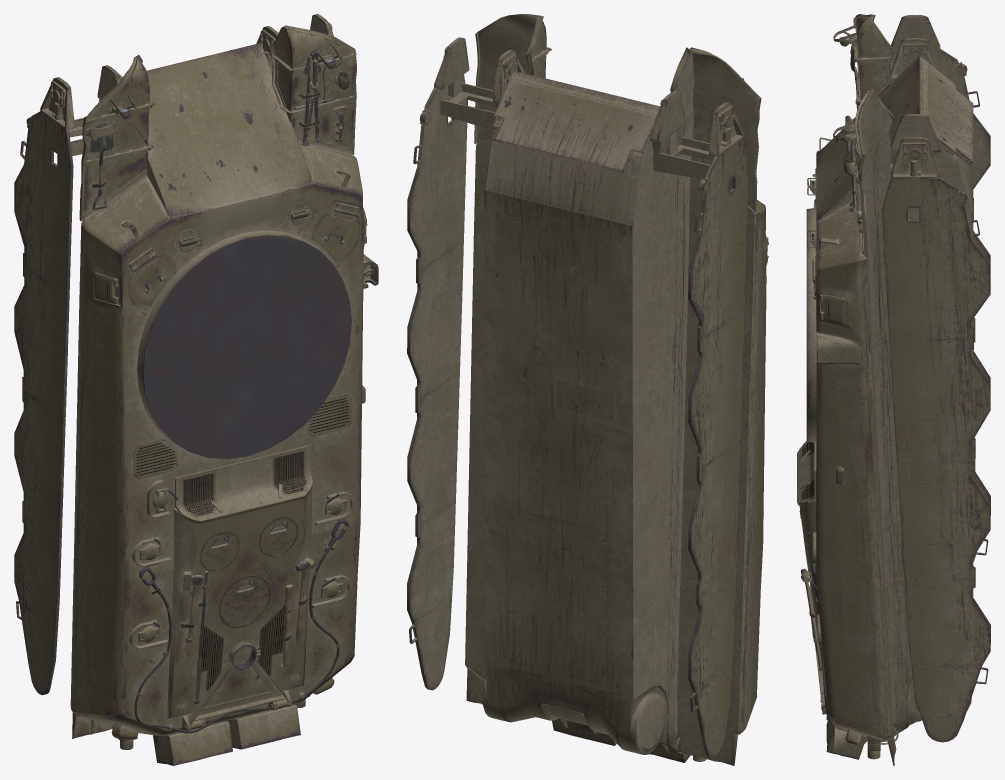
File: Hull.glb
3 renders of one model, left to right at view 1: azimuth 30°, elevation 25°; view 2: azimuth 150°, elevation 25°; view 3: azimuth 270°, elevation 25°, orthographic. The views are drawn at different scales.
Parts seen in each view (by area): view 1: set_0_group_0; view 2: set_0_group_0; view 3: set_0_group_0.
Part boxes in pixels (<box>): set_0_group_0: <box>14,14,378,765</box>; set_0_group_0: <box>407,14,768,765</box>; set_0_group_0: <box>797,14,990,765</box>.
Bounding box in the file's own units: 3.13 × 7.62 × 1.97.
1 material, 1 textured.
